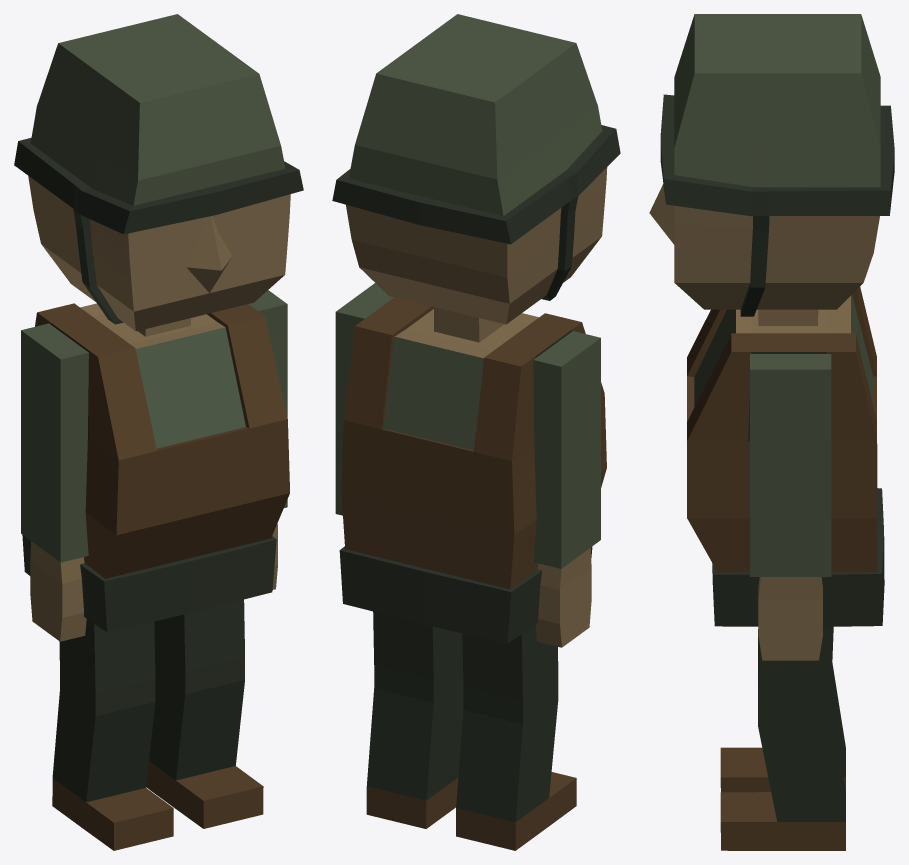
The model's file is Infantry.fbx.
The picture shows the model from 3 angles, left to right: view 1: azimuth 30°, elevation 25°; view 2: azimuth 150°, elevation 25°; view 3: azimuth 270°, elevation 25°; orthographic projection. The views are drawn at different scales.
Visible parts, largest first — view 1: Human, R_leg.001, R_leg, Arm_R, Arm_L; view 2: Human, R_leg.001, Arm_R, R_leg, Arm_L; view 3: Human, Arm_L, R_leg, R_leg.001.
Boxes of the visible parts, bbox=[...] form: Human: bbox=[14, 14, 303, 632]; R_leg.001: bbox=[52, 619, 173, 850]; R_leg: bbox=[146, 599, 263, 828]; Arm_R: bbox=[21, 323, 88, 641]; Arm_L: bbox=[249, 290, 287, 589]; Human: bbox=[332, 14, 620, 643]; R_leg.001: bbox=[456, 625, 576, 850]; Arm_R: bbox=[533, 331, 600, 647]; R_leg: bbox=[366, 611, 463, 828]; Arm_L: bbox=[335, 283, 393, 515]; Human: bbox=[649, 14, 894, 626]; Arm_L: bbox=[750, 354, 831, 660]; R_leg: bbox=[720, 626, 845, 850]; R_leg.001: bbox=[720, 629, 845, 792].
Bounding box in the file's own units: 259 × 823 × 238.
1 material, 1 textured.
